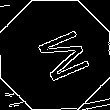M_SW: (23, 24, 87, 86)
